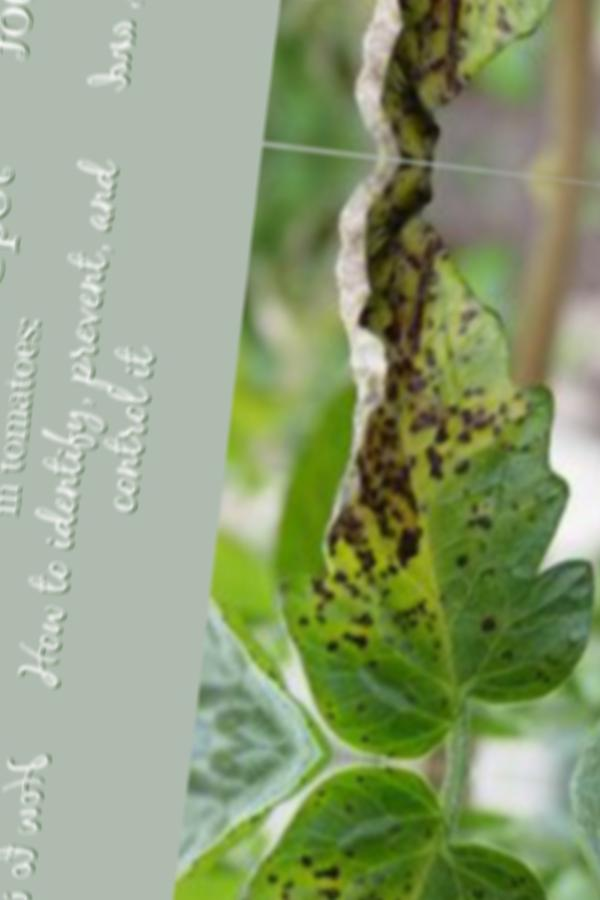Tomato Septoria leaf spot: (252, 151, 600, 776)
